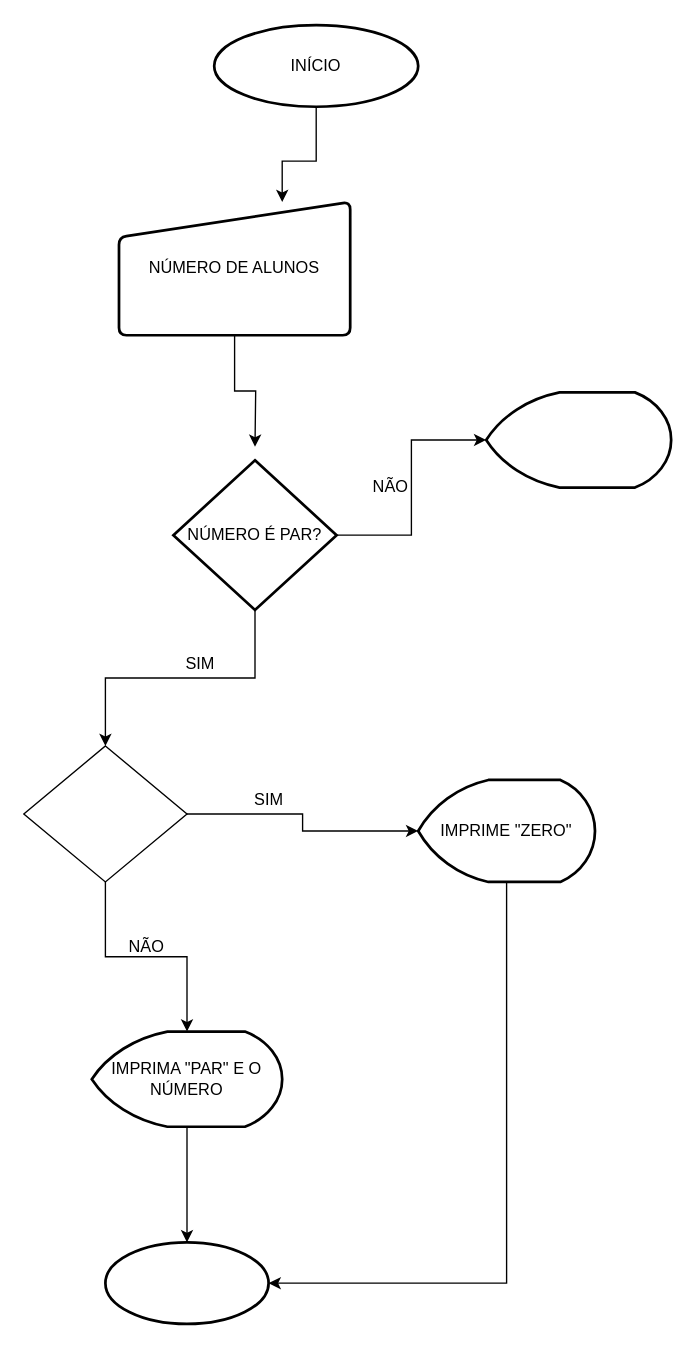
Image size: 696x1348. Some labels were removed from this diagram. Each missing label, with the box of its shape:
FIM: (103, 1240, 269, 1325)
IMPRIMA "ÍMPAR" E O NÚMERO: (484, 390, 672, 488)
NÚMERO É ZERO?: (22, 745, 187, 882)
